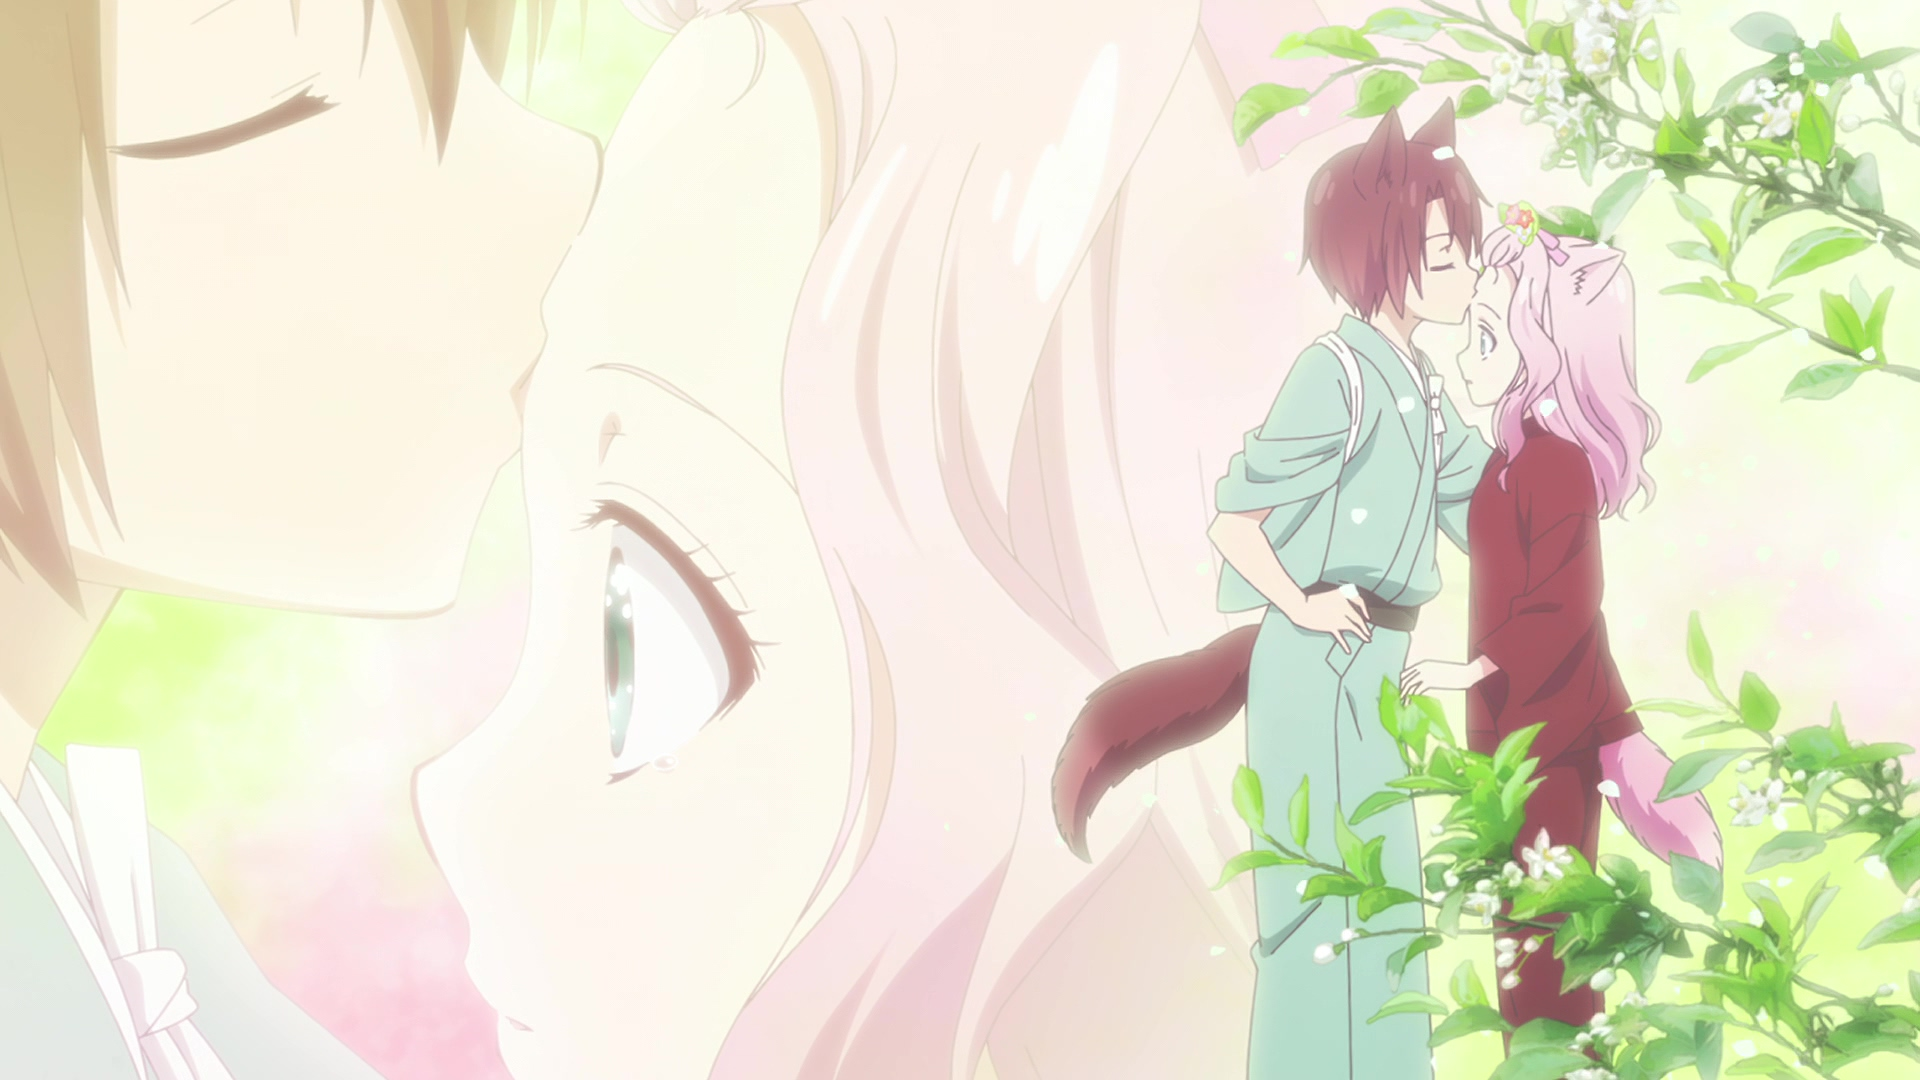枣: (1, 1, 605, 1080), (1050, 102, 1489, 1080)
莲: (413, 1, 1437, 1080), (1396, 204, 1721, 1080)
